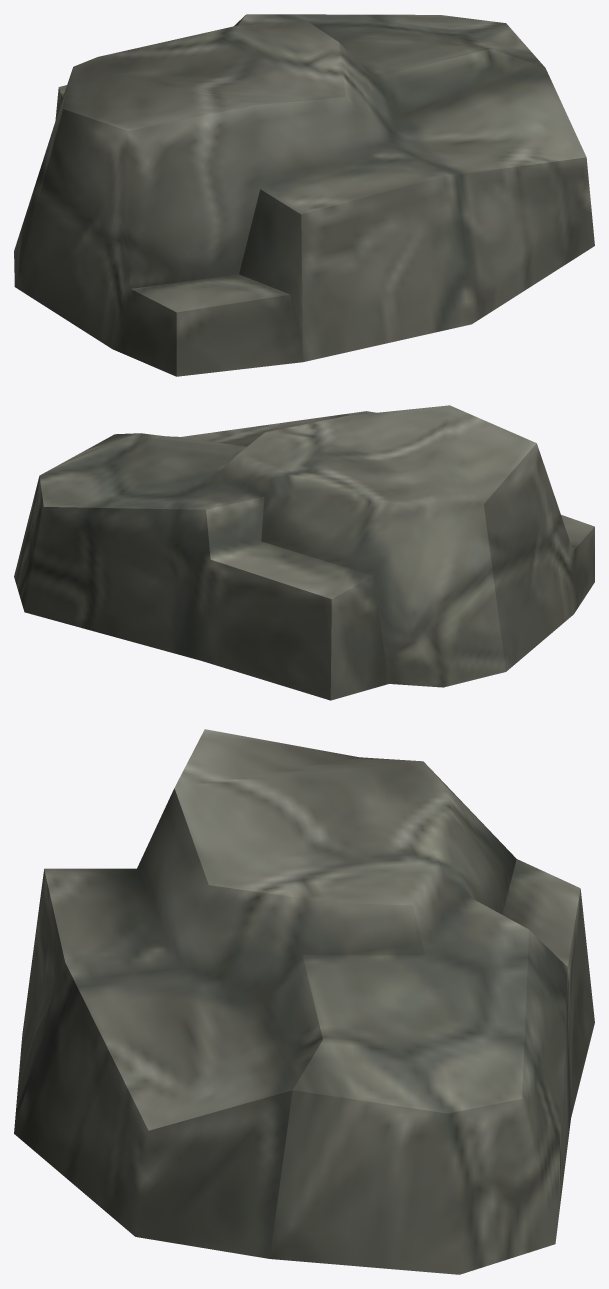
Rendered from rock_a_2.FBX.
3 views of the same model, one above another, from view 1: azimuth 30°, elevation 25°; view 2: azimuth 150°, elevation 25°; view 3: azimuth 270°, elevation 25° (orthographic). The views are drawn at different scales.
Parts seen in each view (by area): view 1: polySurface564; view 2: polySurface564; view 3: polySurface564.
Boxes of the visible parts, x1=… form: polySurface564: x1=14, y1=14, x2=594, y2=376; polySurface564: x1=14, y1=405, x2=594, y2=700; polySurface564: x1=14, y1=729, x2=594, y2=1274.
Bounding box in the file's own units: 55.62 × 42.29 × 20.46.
